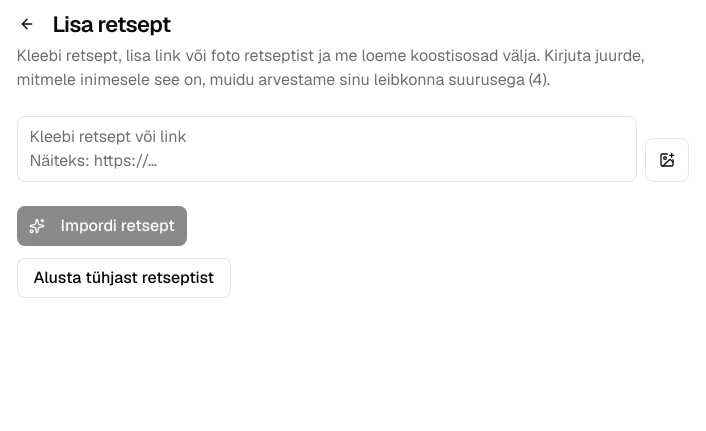
RecipeImportClient error localization › renders the translated medium-confidence warning, not the server sentence
The image size is (706, 431).
Type "https://example.com/recipe" into the text box.
click(326, 149); type("https://example.com/recipe")  # box [16,116,636,182]
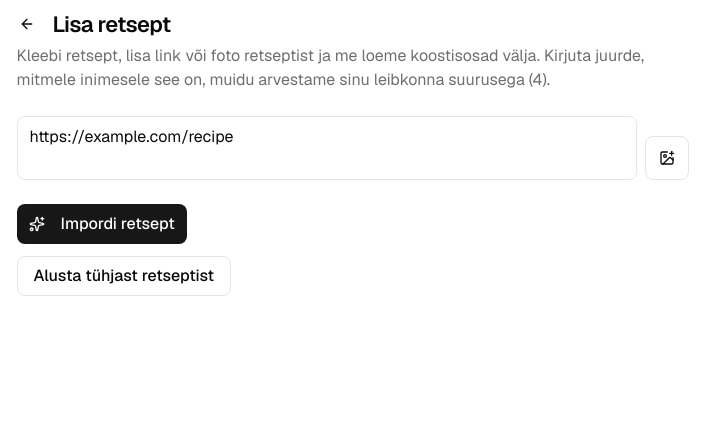
Click the button "Impordi retsept".
click(102, 224)  # box [16,204,187,244]
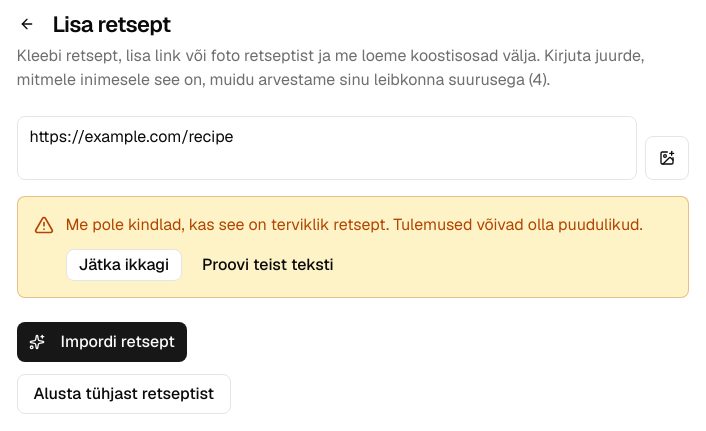
Check: the text "Me pole kindlad, kas see on terviklik retsept. Tulemused võivad olla puudulikud." is shown, box [66,213,643,237]
